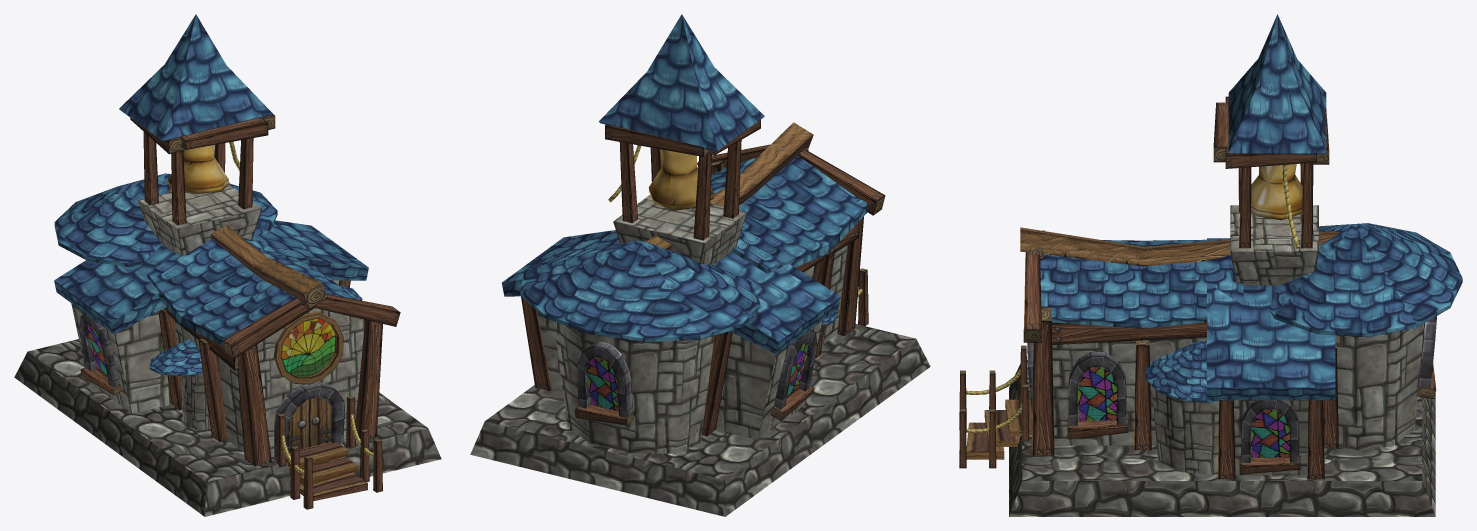
File: church.FBX
3 renders of one model, left to right at view 1: azimuth 30°, elevation 25°; view 2: azimuth 150°, elevation 25°; view 3: azimuth 270°, elevation 25°, orthographic. The views are drawn at different scales.
Parts seen in each view (by area): view 1: bedrock, roof (×2), Pyramid_roof, Cylinder_roof (×2), wall, Box085, tower, Box061, large_wood002, wood_table119, rosette, wood_table118 (+21 smaller); view 2: bedrock, Cylinder_roof, Cylinder_wall, roof (×2), Pyramid_roof, Box061, Box085, tower, large_wood002, bell, frame_tunnel005, colour_glass (×2) (+14 smaller); view 3: bedrock, roof (×2), Cylinder_roof (×2), Cylinder_wall (×2), Pyramid_roof, wall, tower, large_wood002, colour_glass (×2), wood_table118, wood_table120, bell (+18 smaller).
Part boxes in pixels (bbox=[...]): bedrock: bbox=[14, 339, 441, 516]; roof (×2): bbox=[147, 220, 368, 346]; Pyramid_roof: bbox=[119, 14, 272, 141]; Cylinder_roof (×2): bbox=[54, 173, 277, 375]; wall: bbox=[174, 308, 364, 457]; Box085: bbox=[54, 244, 175, 333]; tower: bbox=[138, 184, 262, 255]; Box061: bbox=[71, 280, 339, 413]; large_wood002: bbox=[167, 188, 327, 309]; wood_table119: bbox=[237, 344, 271, 466]; rosette: bbox=[281, 318, 335, 377]; wood_table118: bbox=[355, 320, 382, 438]; bedrock: bbox=[470, 324, 930, 516]; Cylinder_roof: bbox=[520, 240, 760, 341]; Cylinder_wall: bbox=[554, 321, 714, 453]; roof (×2): bbox=[502, 151, 867, 296]; Pyramid_roof: bbox=[599, 14, 764, 151]; Box061: bbox=[537, 312, 823, 439]; Box085: bbox=[714, 252, 840, 354]; tower: bbox=[613, 194, 746, 264]; large_wood002: bbox=[646, 122, 813, 249]; bell: bbox=[648, 149, 713, 210]; frame_tunnel005: bbox=[577, 341, 632, 417]; colour_glass (×2): bbox=[587, 342, 808, 411]; bedrock: bbox=[1009, 360, 1435, 516]; roof (×2): bbox=[1040, 239, 1335, 400]; Cylinder_roof (×2): bbox=[1145, 223, 1462, 402]; Cylinder_wall (×2): bbox=[1151, 323, 1424, 474]; Pyramid_roof: bbox=[1228, 14, 1326, 154]; wall: bbox=[1052, 337, 1206, 445]; tower: bbox=[1230, 205, 1318, 285]; large_wood002: bbox=[1020, 227, 1340, 266]; colour_glass (×2): bbox=[1078, 367, 1289, 457]; wood_table118: bbox=[1031, 306, 1054, 455]; wood_table120: bbox=[1052, 322, 1206, 344]; bell: bbox=[1251, 164, 1302, 220].
Bounding box in the file's own units: 84.23 × 127 × 121.
